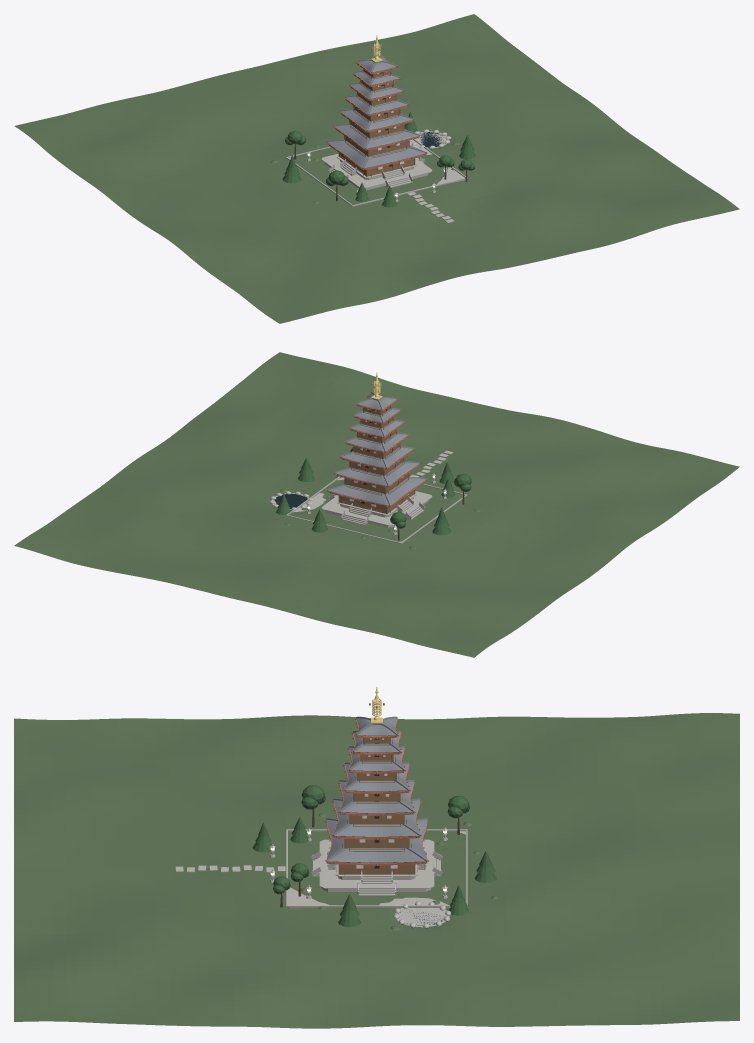
Rendered from pagoda.glb.
The picture shows the model from 3 angles, top to bottom: view 1: azimuth 30°, elevation 25°; view 2: azimuth 150°, elevation 25°; view 3: azimuth 270°, elevation 25°; orthographic projection. The views are drawn at different scales.
Parts seen in each view (by area): view 1: Ground_Pad, Roof_T1, Base_Cornice_Lower, Roof_T2, Roof_T3; view 2: Ground_Pad, Roof_T1, Roof_T2, Base_Cornice_Lower, Roof_T3; view 3: Ground_Pad, Roof_T1, Base_Cornice_Lower, Roof_T2, Roof_T3, Base_Courtyard, Roof_T4, Pond_Basin, Roof_T5, Wall_T1, Roof_T7, Wall_T2.
Part boxes in pixels (x1,y1,x2,y2): Ground_Pad: (14, 14, 739, 323); Roof_T1: (327, 141, 426, 169); Base_Cornice_Lower: (321, 153, 432, 188); Roof_T2: (334, 125, 419, 149); Roof_T3: (340, 110, 413, 131); Ground_Pad: (14, 352, 739, 657); Roof_T1: (327, 478, 426, 506); Roof_T2: (334, 462, 419, 486); Base_Cornice_Lower: (321, 491, 432, 525); Roof_T3: (340, 447, 413, 468); Ground_Pad: (14, 713, 739, 1028); Roof_T1: (326, 819, 427, 862); Base_Cornice_Lower: (319, 839, 434, 888); Roof_T2: (334, 800, 419, 837); Roof_T3: (340, 781, 413, 813); Base_Courtyard: (287, 831, 465, 908); Roof_T4: (345, 764, 408, 791); Pond_Basin: (395, 908, 449, 927); Roof_T5: (349, 747, 404, 771); Wall_T1: (340, 864, 413, 874); Roof_T7: (356, 718, 397, 735); Wall_T2: (346, 839, 407, 848).
Size of the model in its own units: 160 by 46.42 by 160.
